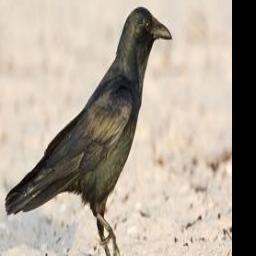Crow: (4, 3, 175, 256)
